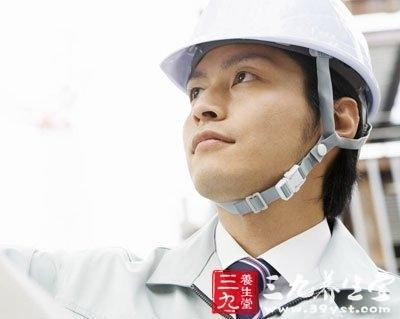helmet: (158, 0, 386, 123)
